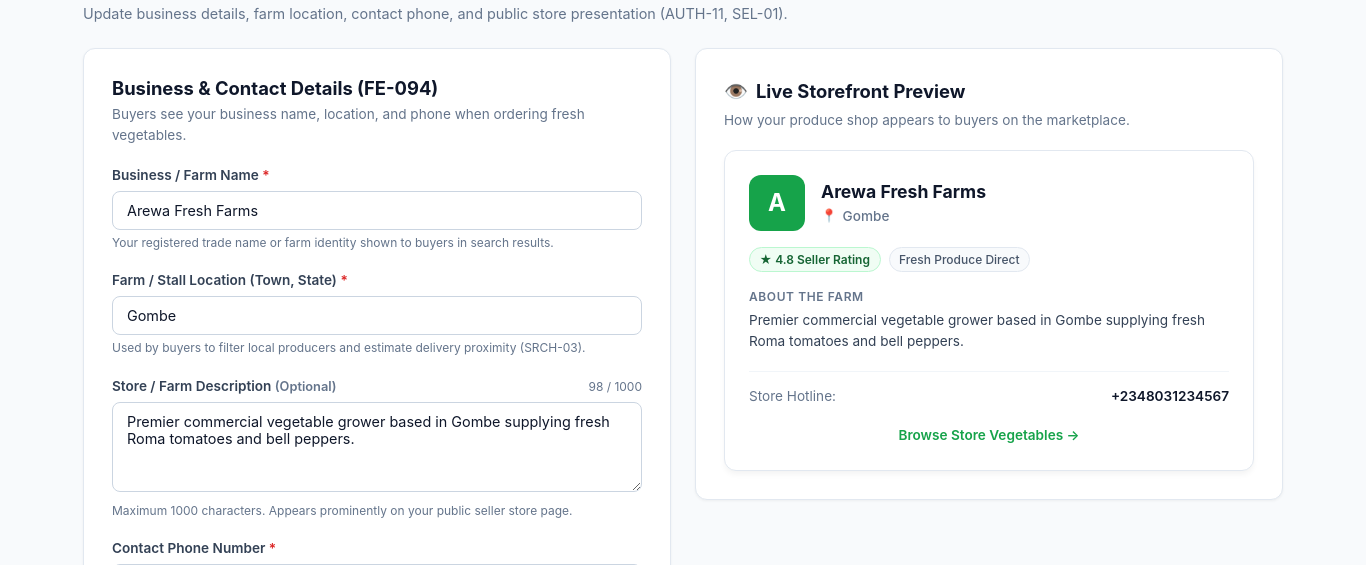
FE-094 / AUTH-11: Seller Profile Edit › 2. Client-Side Validation for Edit Fields (FE-094, AUTH-11) › validates business name (required, min 2 chars, max 150 chars)
The image size is (1366, 565).
Clear business name
Clear the field with test id "profile-business-name-input" at (377, 210), box [112,191,642,230]
(page scrolled)
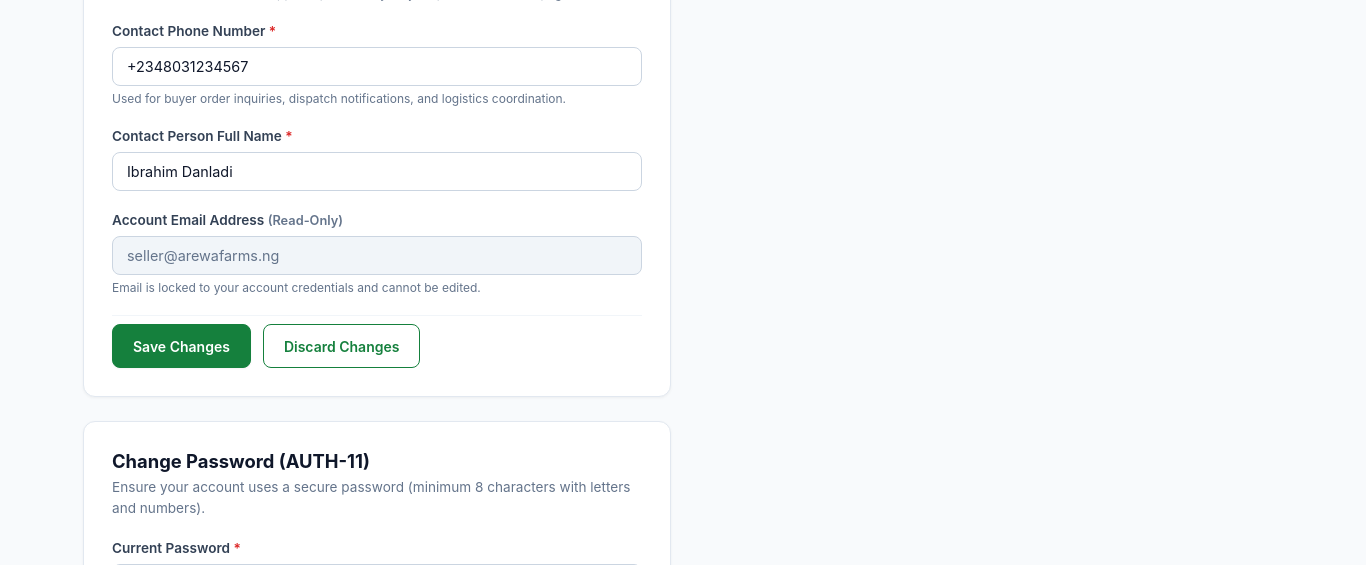
Click the button with test id "profile-save-btn".
click(181, 346)  # box [112,324,251,368]
(page scrolled)
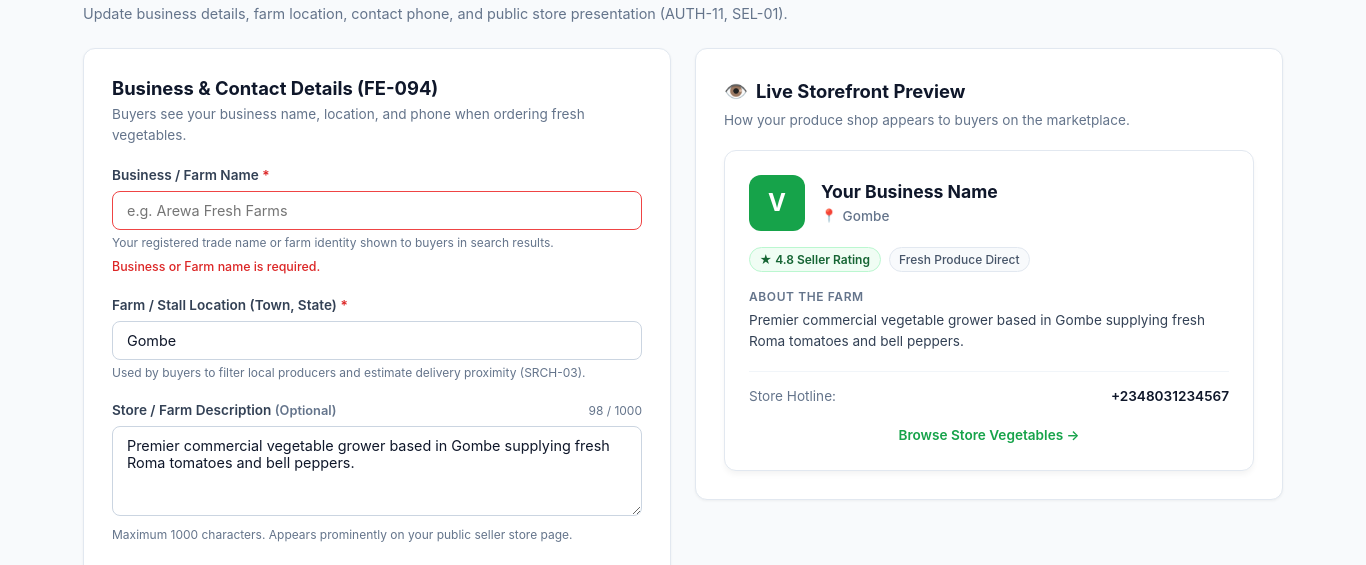
Expected: the message with test id "profile-business-name-error" shows "Business or Farm name is required", [112,259,320,274]
Single character
Type "A" into the field with test id "profile-business-name-input".
click(377, 210); type("A")  # box [112,191,642,230]
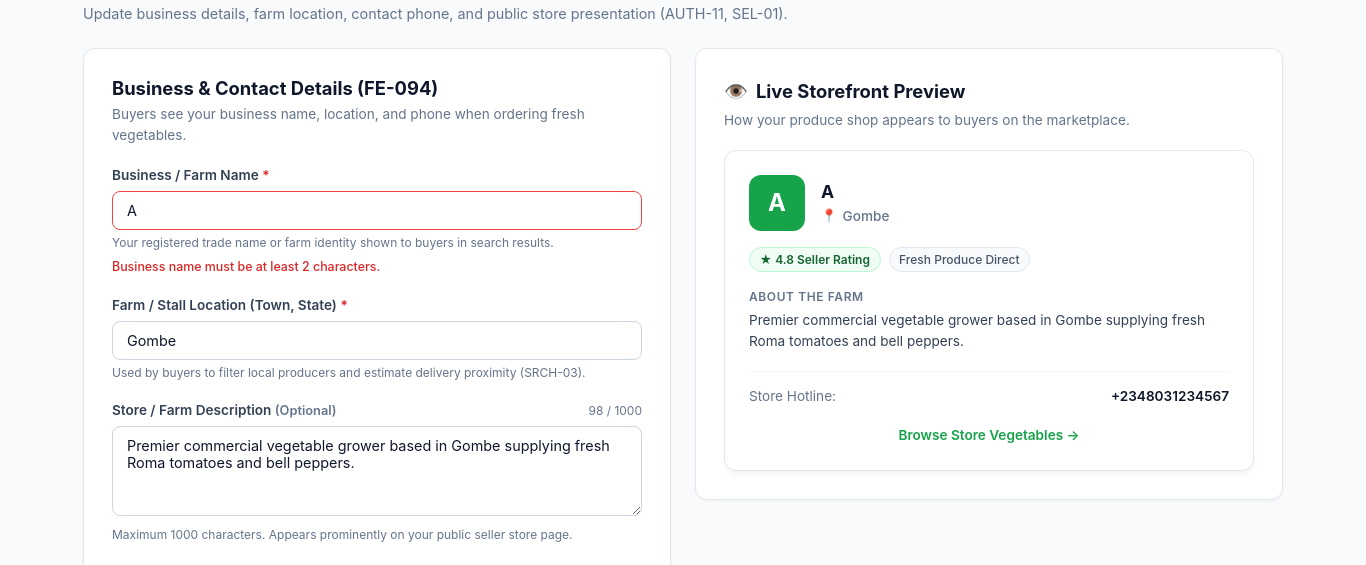
Expected: the message with test id "profile-business-name-error" shows "must be at least 2 characters", [112,259,380,274]
